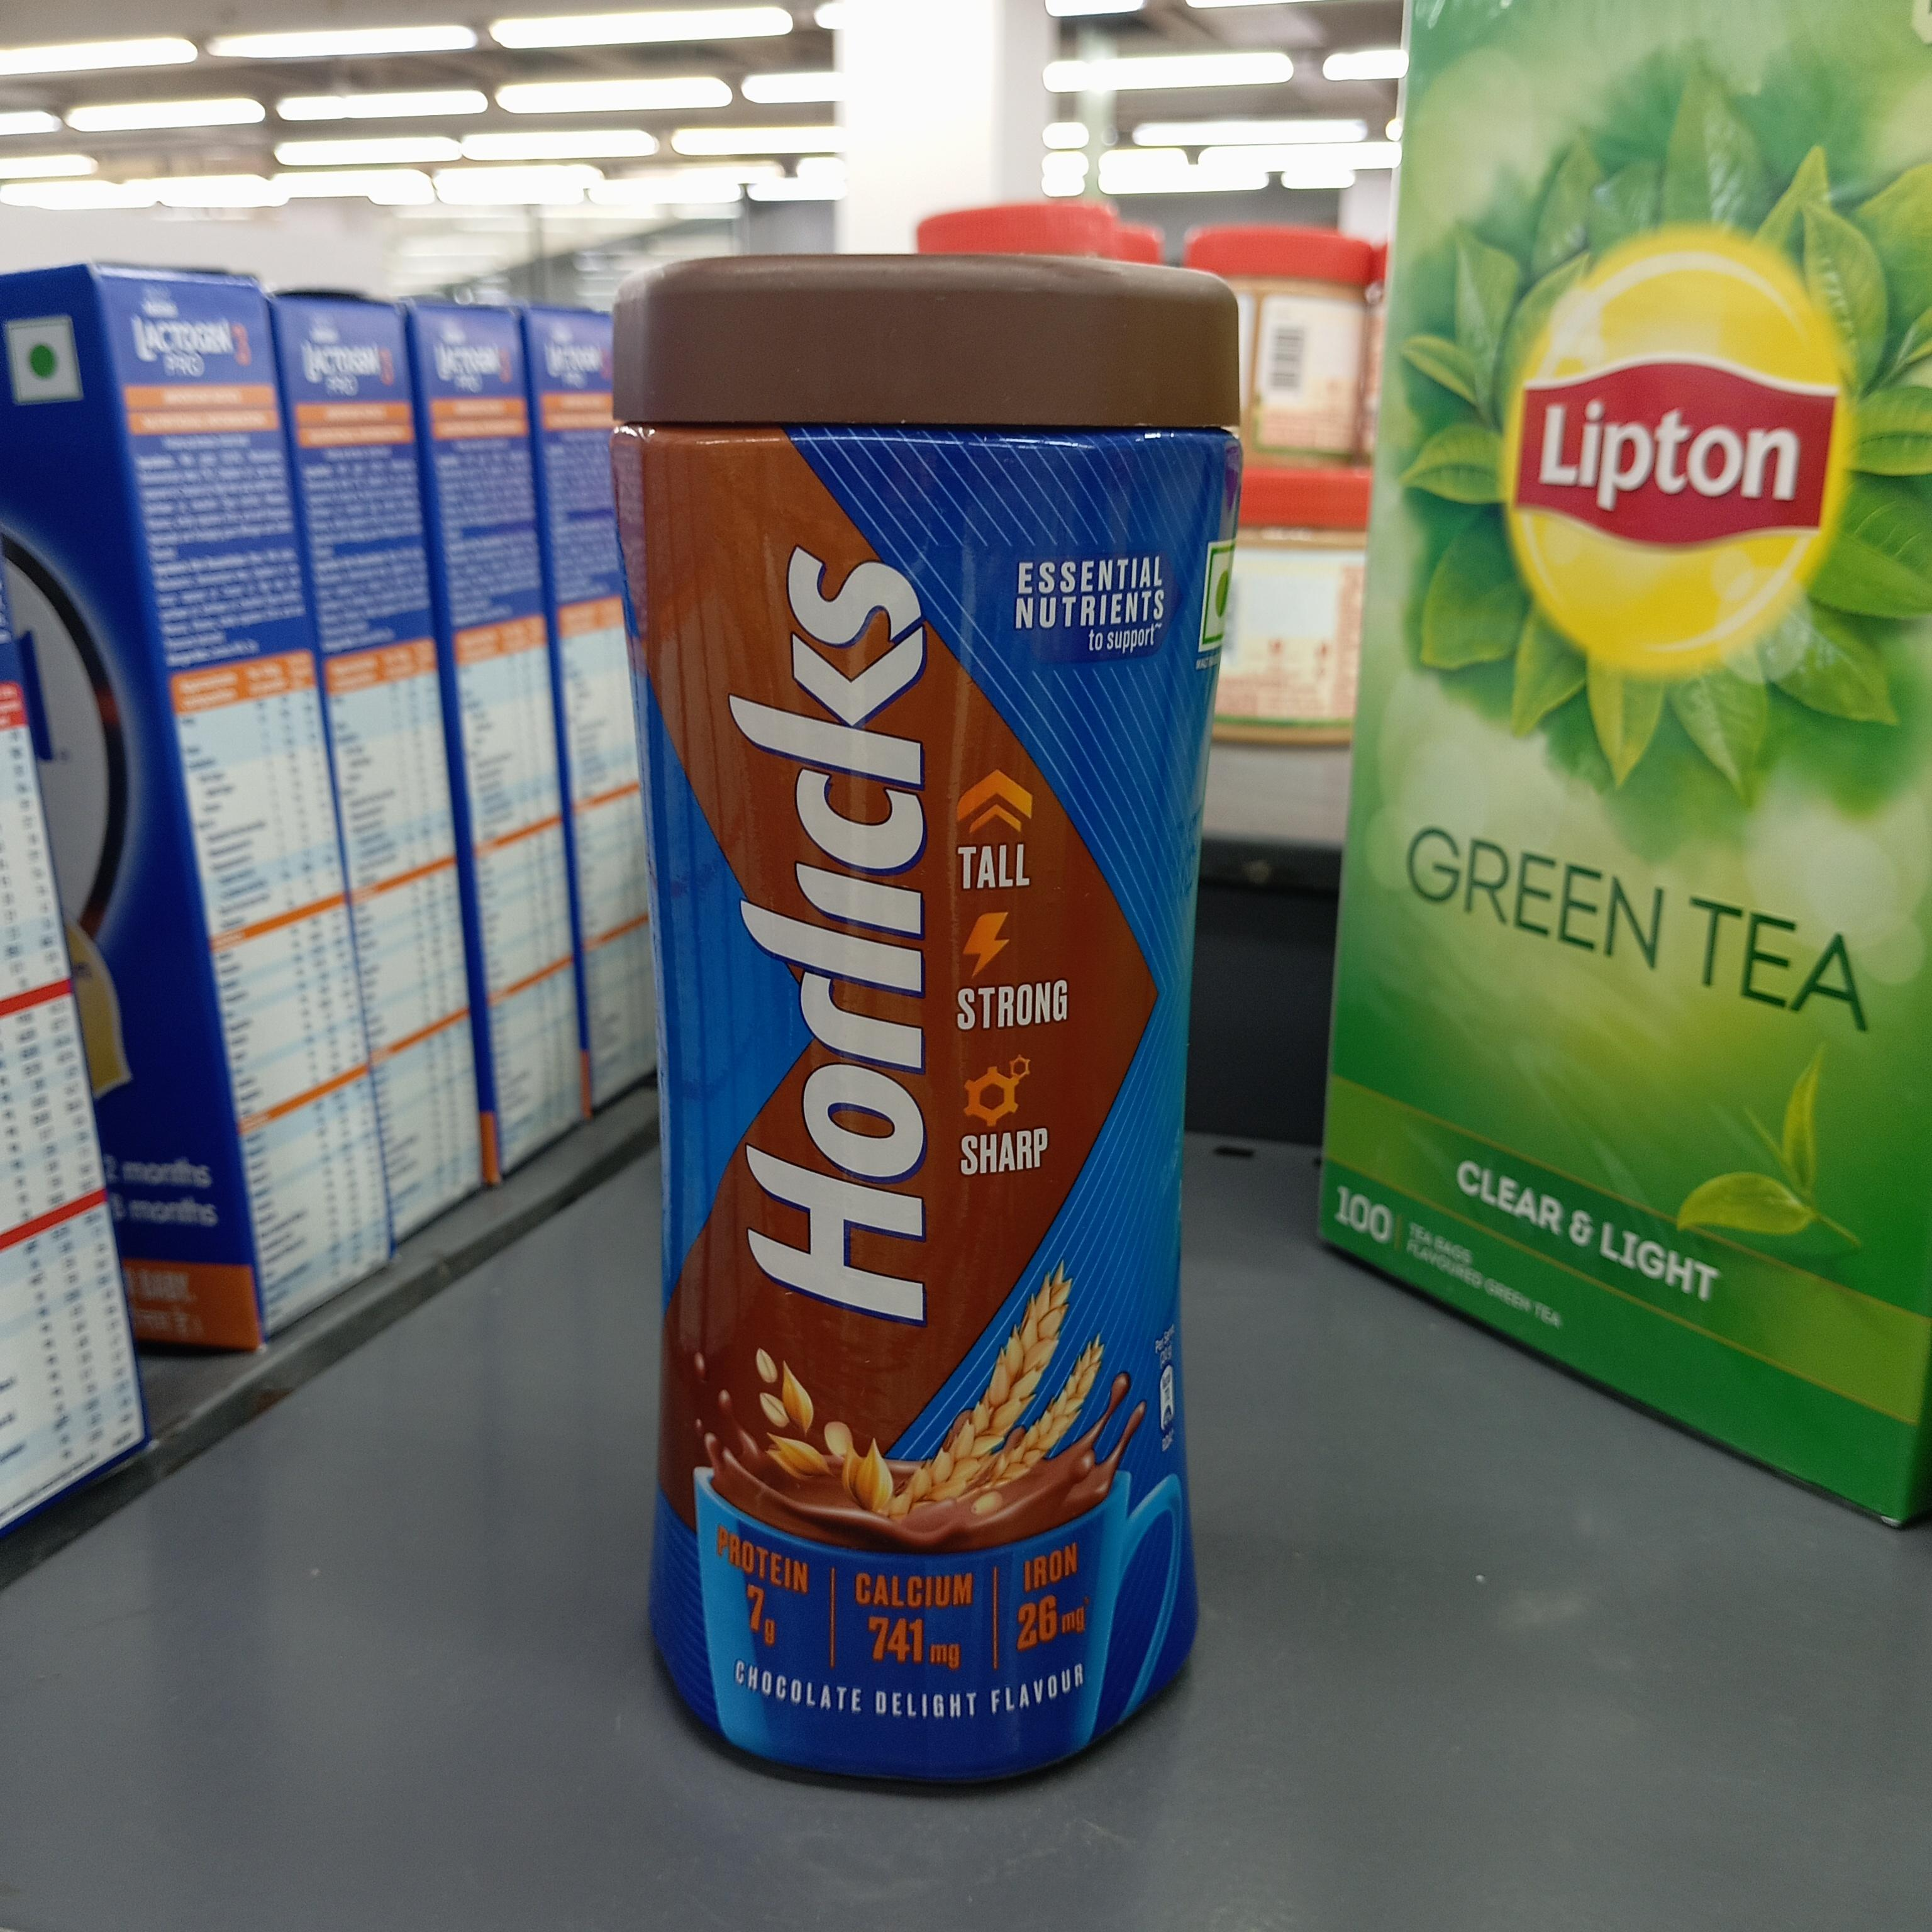HORLICK_CHOCOLATE_500_G_JAR: (616, 226, 1194, 1766)
